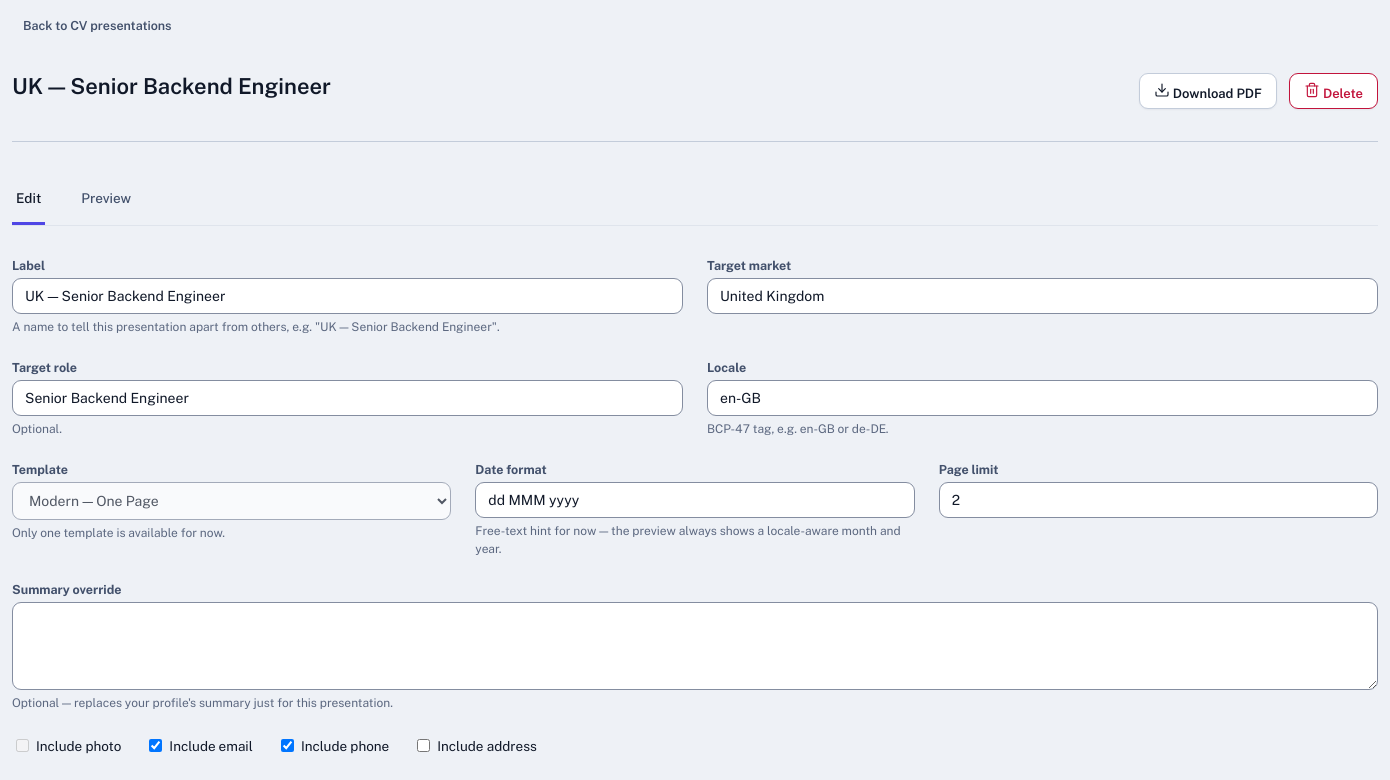
Scenario: CVPresentationDetailPage export › shows an inline message when the presentation uses an unsupported template
Expected: the heading "UK — Senior Backend Engineer" is shown, top-left (12, 72), bottom-right (331, 98)
Click the button "Download PDF": point(1208, 90) top-left (1139, 72), bottom-right (1277, 108)
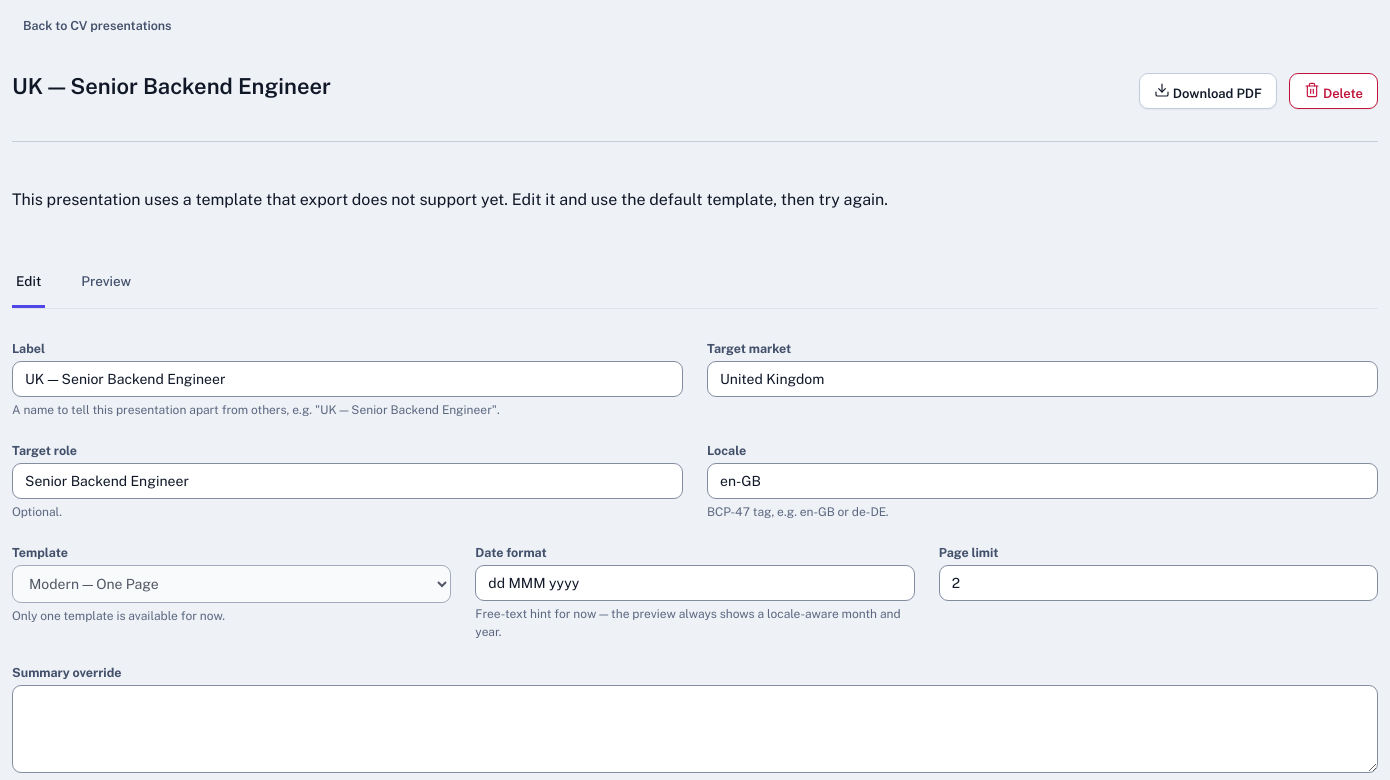
Expected: the message shows "template", top-left (12, 190), bottom-right (888, 208)
